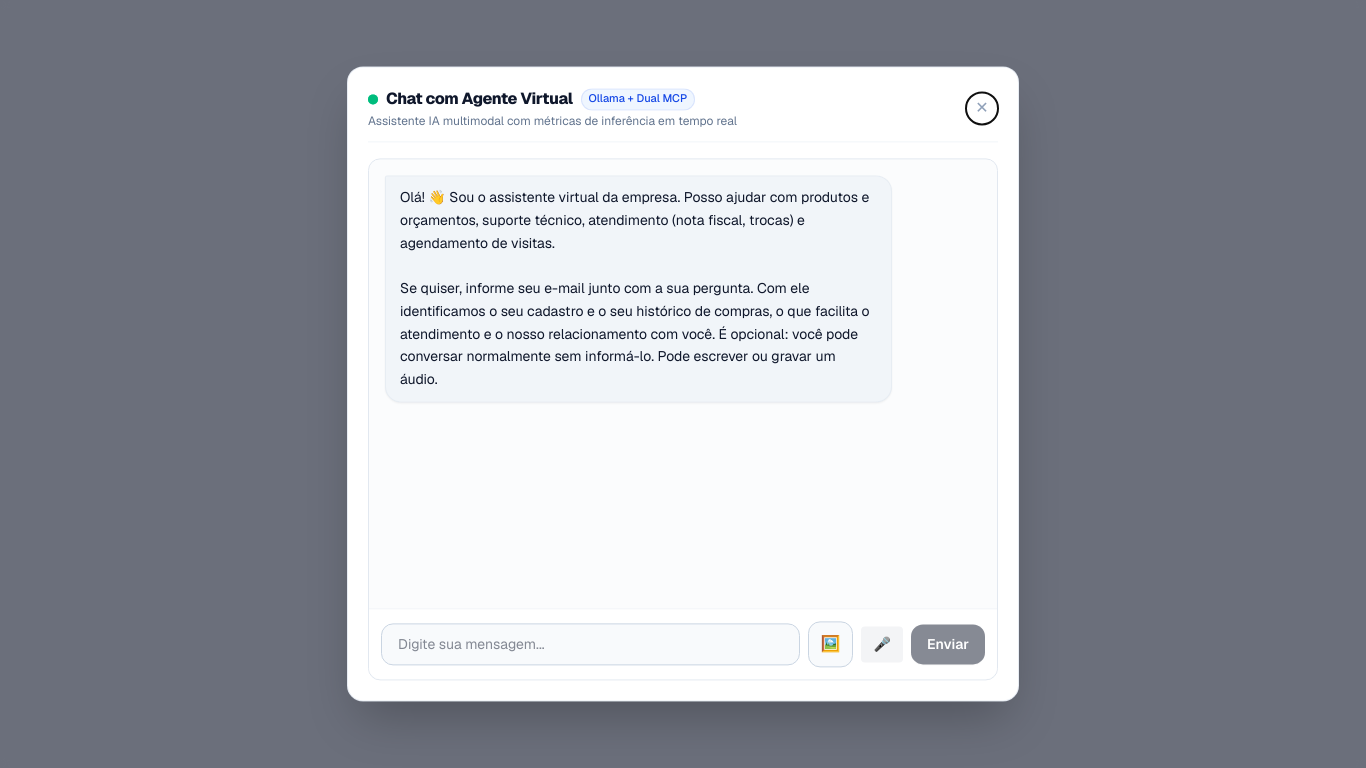
Scenario: ChatModal › devolve o foco à caixa de mensagem após clicar em Enviar
Step 1. Type "Olá" into the field labelled "mensagem" → (590, 645), box [381,624,800,666]
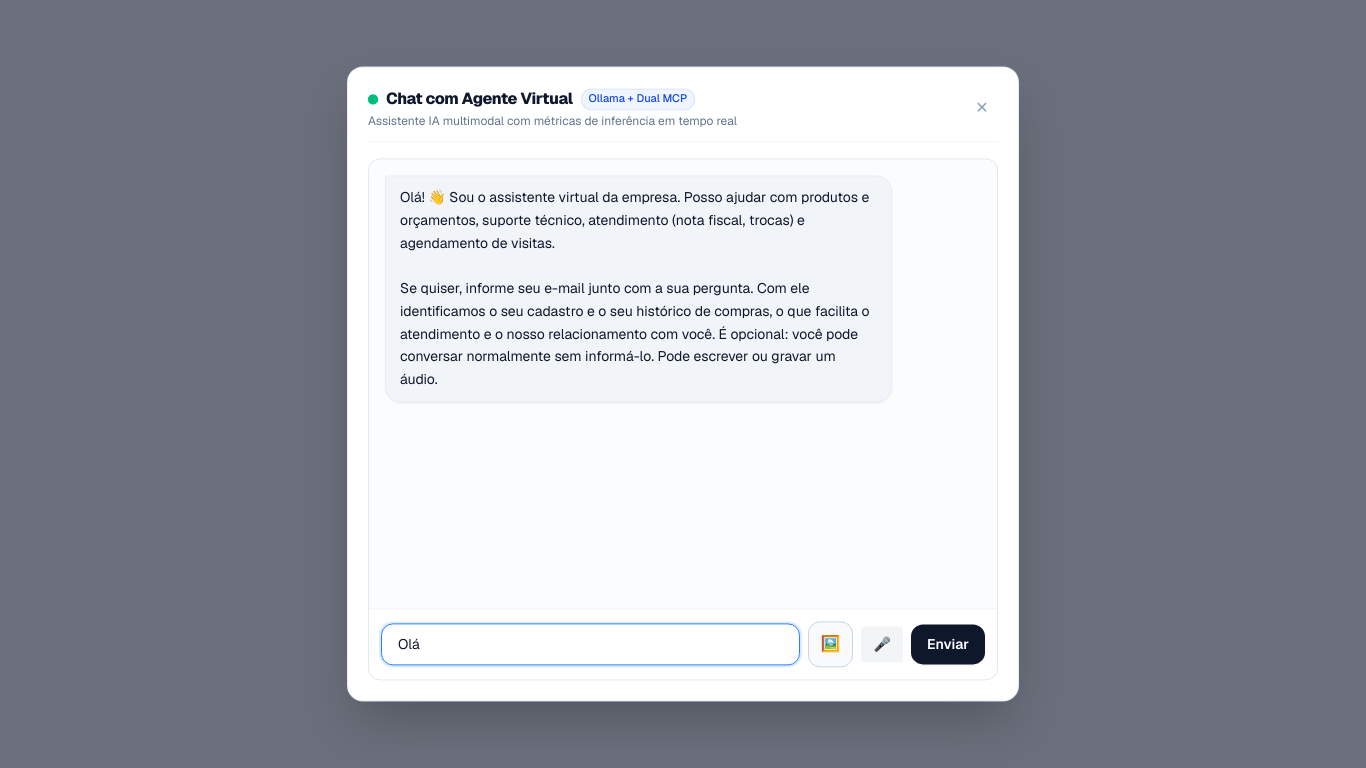
Step 2. Click the button "Enviar" → (948, 645), box [911,625,985,665]
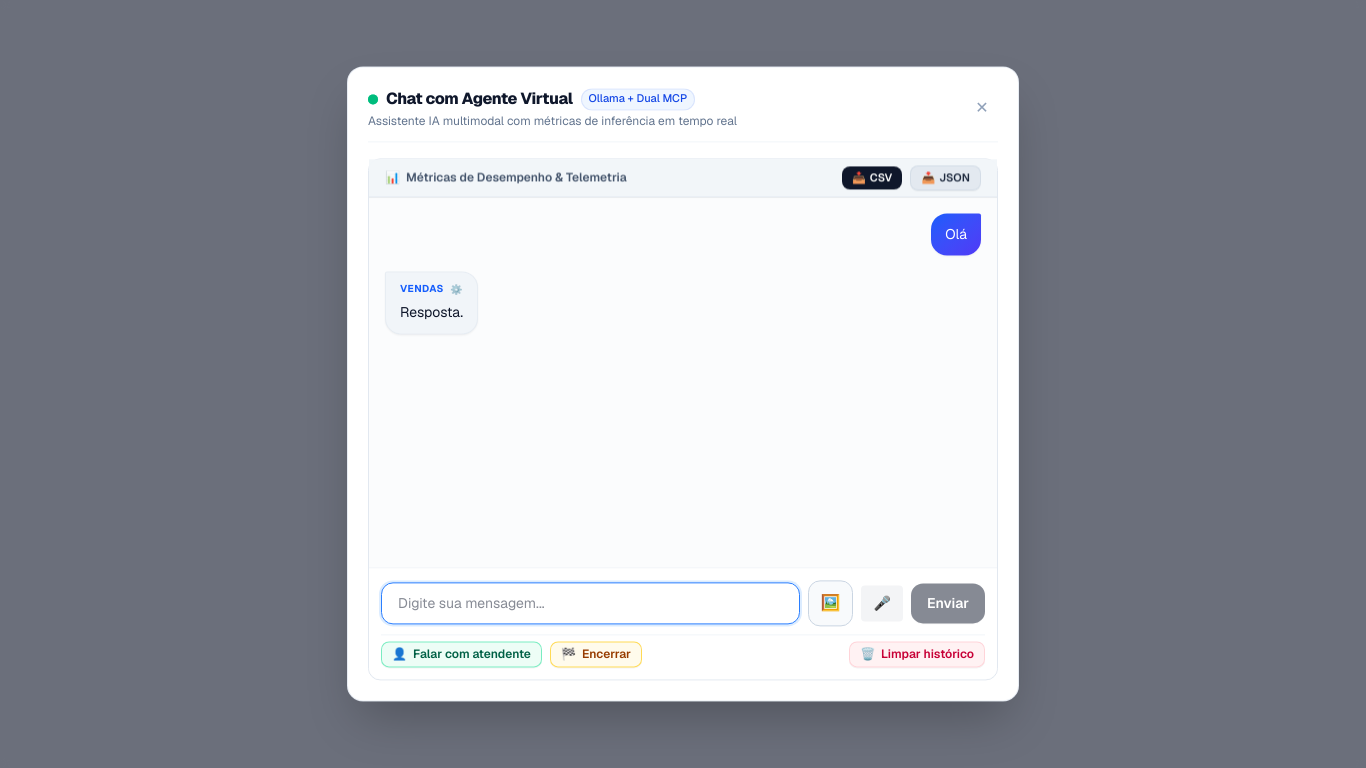
Expected: the text "Resposta." is shown, [400,301,463,324]
